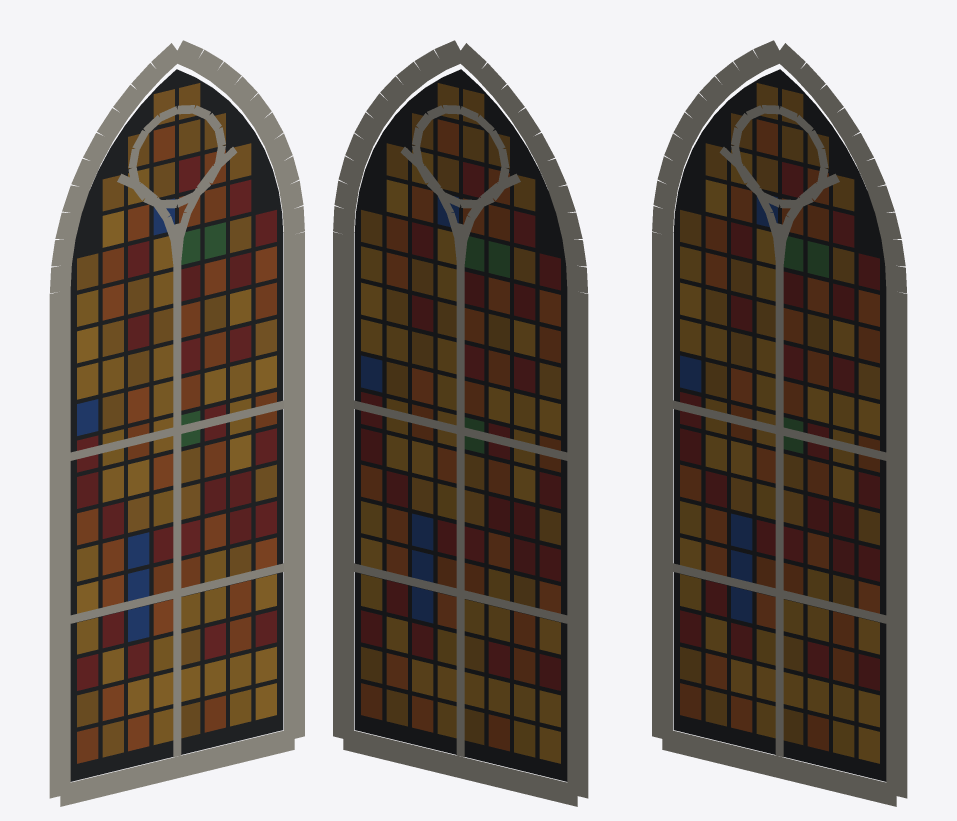
File: window.stained.amber.glb
3 renders of one model, left to right at view 1: azimuth 30°, elevation 25°; view 2: azimuth 150°, elevation 25°; view 3: azimuth 330°, elevation 25°, orthographic.
Parts seen in each view (by area): view 1: window_stained_amber; view 2: window_stained_amber; view 3: window_stained_amber.
Part boxes in pixels (bbox=[...]): window_stained_amber: bbox=[49, 40, 304, 806]; window_stained_amber: bbox=[333, 40, 588, 806]; window_stained_amber: bbox=[652, 40, 907, 806].
Size of what is drawn, in the model's own units: 2.2 by 6.07 by 0.534.
